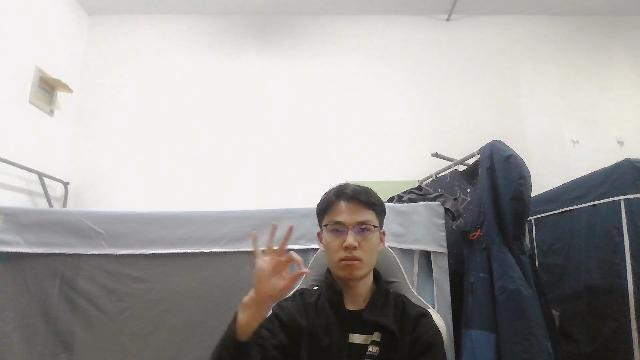ok: (248, 222, 309, 293)
